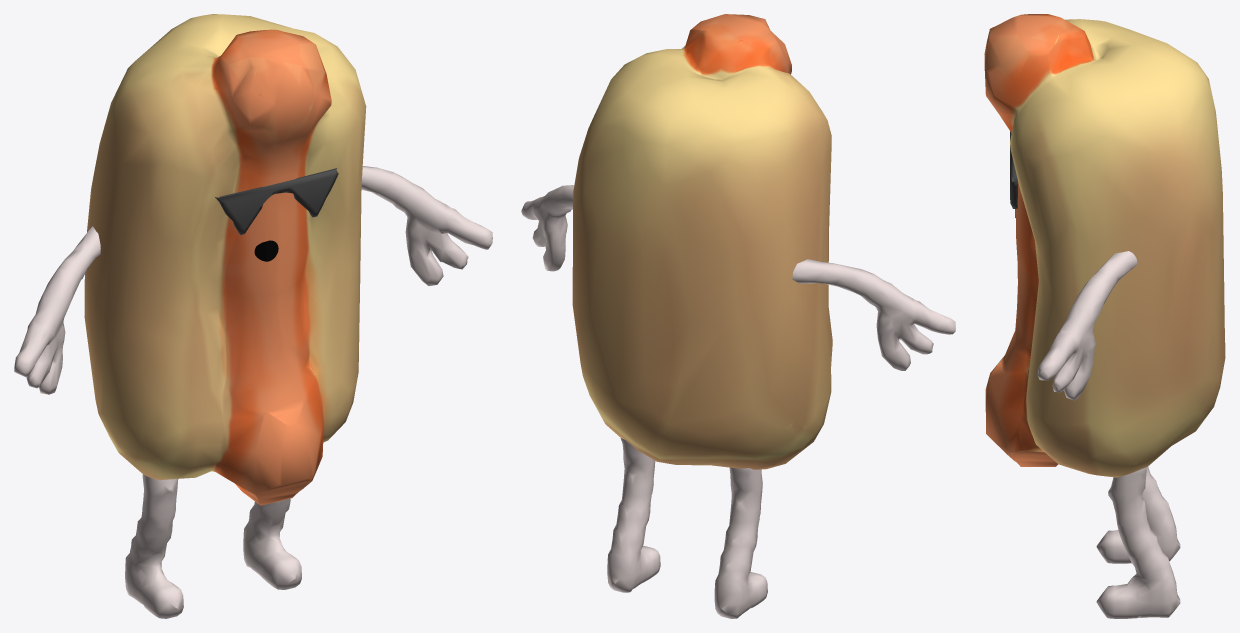
The model's file is Hot Dog Walking.glb.
3 views of the same model, side by side, from view 1: azimuth 30°, elevation 25°; view 2: azimuth 150°, elevation 25°; view 3: azimuth 270°, elevation 25° (orthographic). The views are drawn at different scales.
Visible parts, largest first — view 1: Sphere, Sphere.002, Sphere.003, Sphere.004, Sphere.005, Cube; view 2: Sphere, Sphere.003, Sphere.004, Sphere.005, Sphere.002; view 3: Sphere, Sphere.005, Sphere.002, Sphere.004, Cube.
Boxes of the visible parts, x1,y1,x2,y2 form: Sphere: [84, 14, 366, 505]; Sphere.002: [361, 166, 492, 285]; Sphere.003: [14, 226, 100, 394]; Sphere.004: [125, 474, 183, 618]; Sphere.005: [243, 498, 301, 589]; Cube: [215, 168, 338, 234]; Sphere: [572, 14, 832, 469]; Sphere.003: [792, 259, 955, 370]; Sphere.004: [714, 467, 767, 618]; Sphere.005: [607, 438, 660, 592]; Sphere.002: [521, 185, 574, 271]; Sphere: [984, 14, 1225, 477]; Sphere.005: [1096, 467, 1180, 618]; Sphere.002: [1037, 251, 1137, 400]; Sphere.004: [1096, 466, 1180, 563]; Cube: [1010, 131, 1017, 208].
Size of the model in its own units: 6.18 by 7.29 by 2.82.
4 materials, 1 textured.
